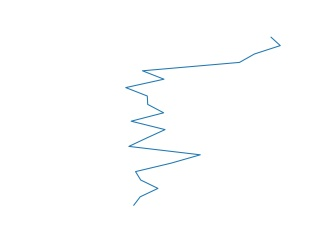crevasseRiverChannelBar: (121, 35, 286, 206)
